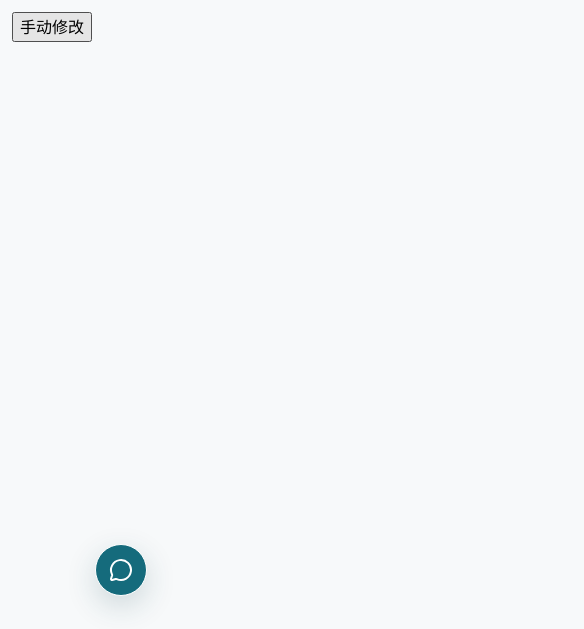
Scenario: business chat execution › applies a returned navigation action through the router
Type keys "{Alt>}/{/Alt}"
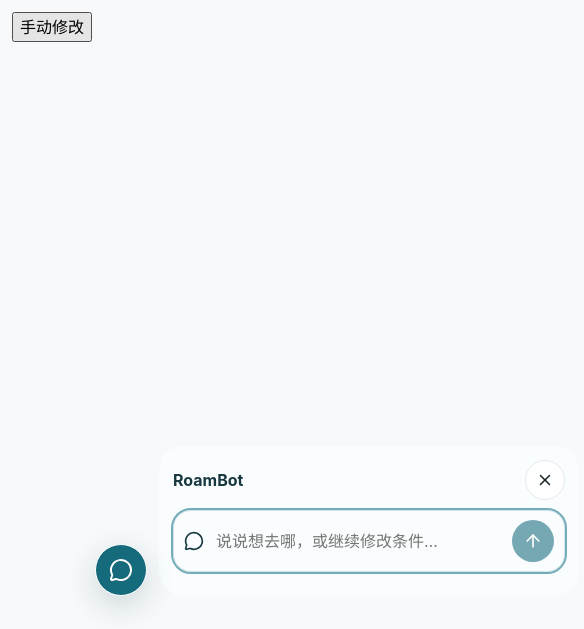
Type "查看收藏" into the text box named "继续补充条件".
click(358, 541); type("查看收藏")  # box [216, 519, 500, 563]
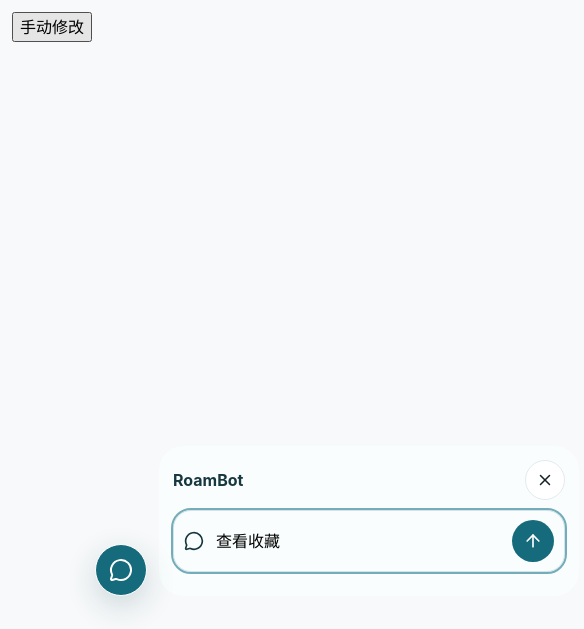
Click the button named "发送消息".
click(533, 541)  # box [512, 520, 554, 562]
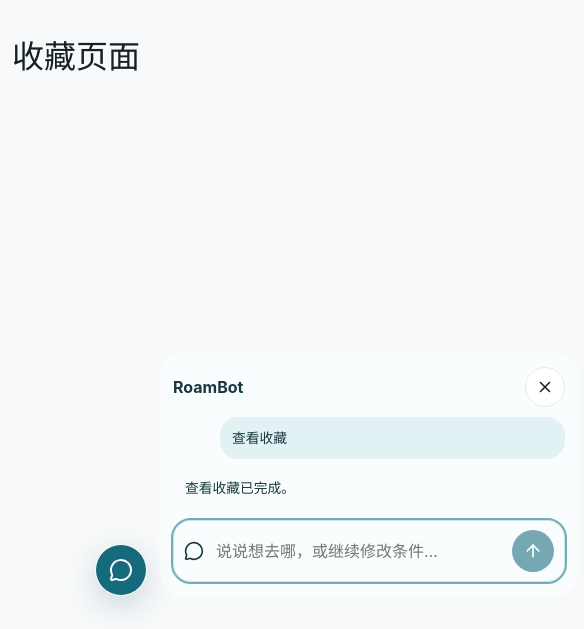
Now the heading "收藏页面" is shown, box [12, 37, 140, 76]
